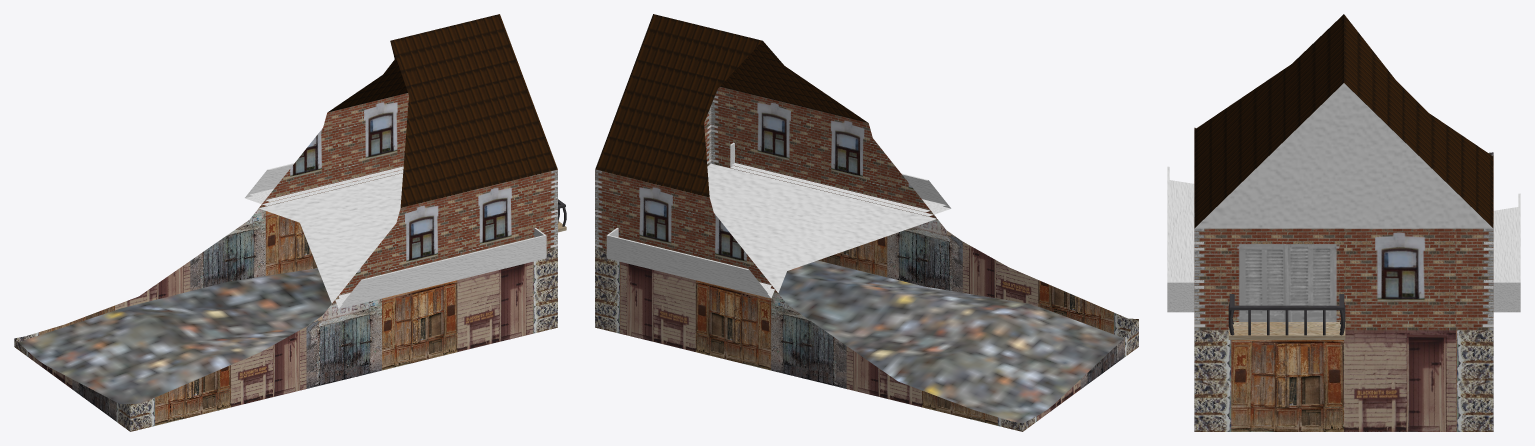
Rendered from House_010_destroyed_001.dae.
3 views of the same model, side by side, from view 1: azimuth 30°, elevation 25°; view 2: azimuth 150°, elevation 25°; view 3: azimuth 270°, elevation 25° (orthographic). The views are drawn at different scales.
Visible parts, largest first — view 1: House_010; view 2: House_010; view 3: House_010.
Part boxes in pixels (x1,y1,x2,y2): House_010: (14, 14, 566, 431); House_010: (595, 14, 1138, 431); House_010: (1167, 14, 1520, 431).
Size of the model in its own units: 143 by 75.6 by 82.41.
Materials: 1 (1 with a texture image).
